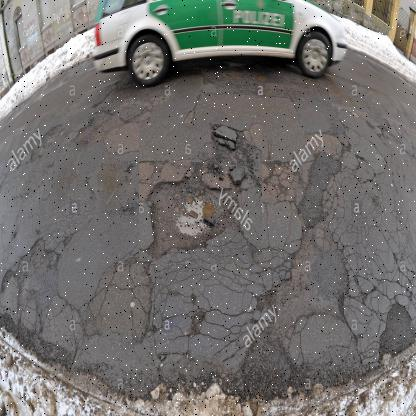crack: (278, 106, 409, 367)
damage: (139, 123, 263, 265)
